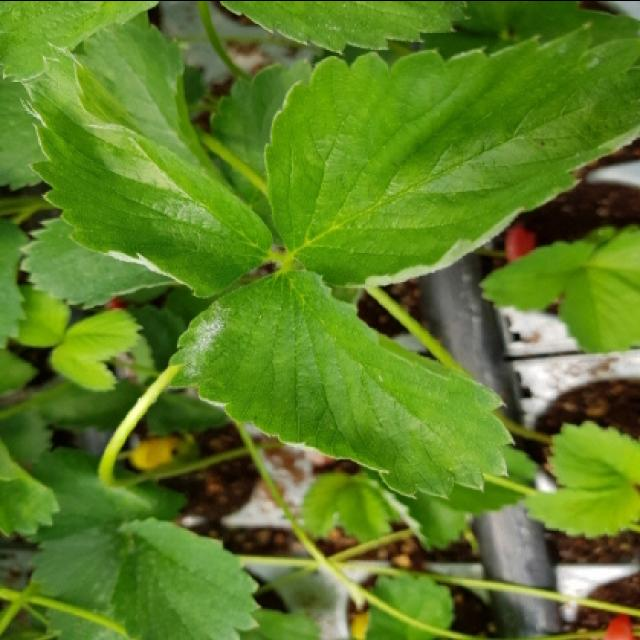Powdery Mildew Leaf: (263, 16, 638, 288), (169, 269, 516, 501), (16, 42, 278, 299)
